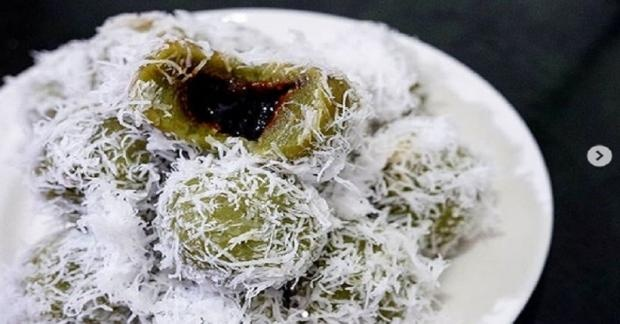klepon: (130, 150, 347, 299)
